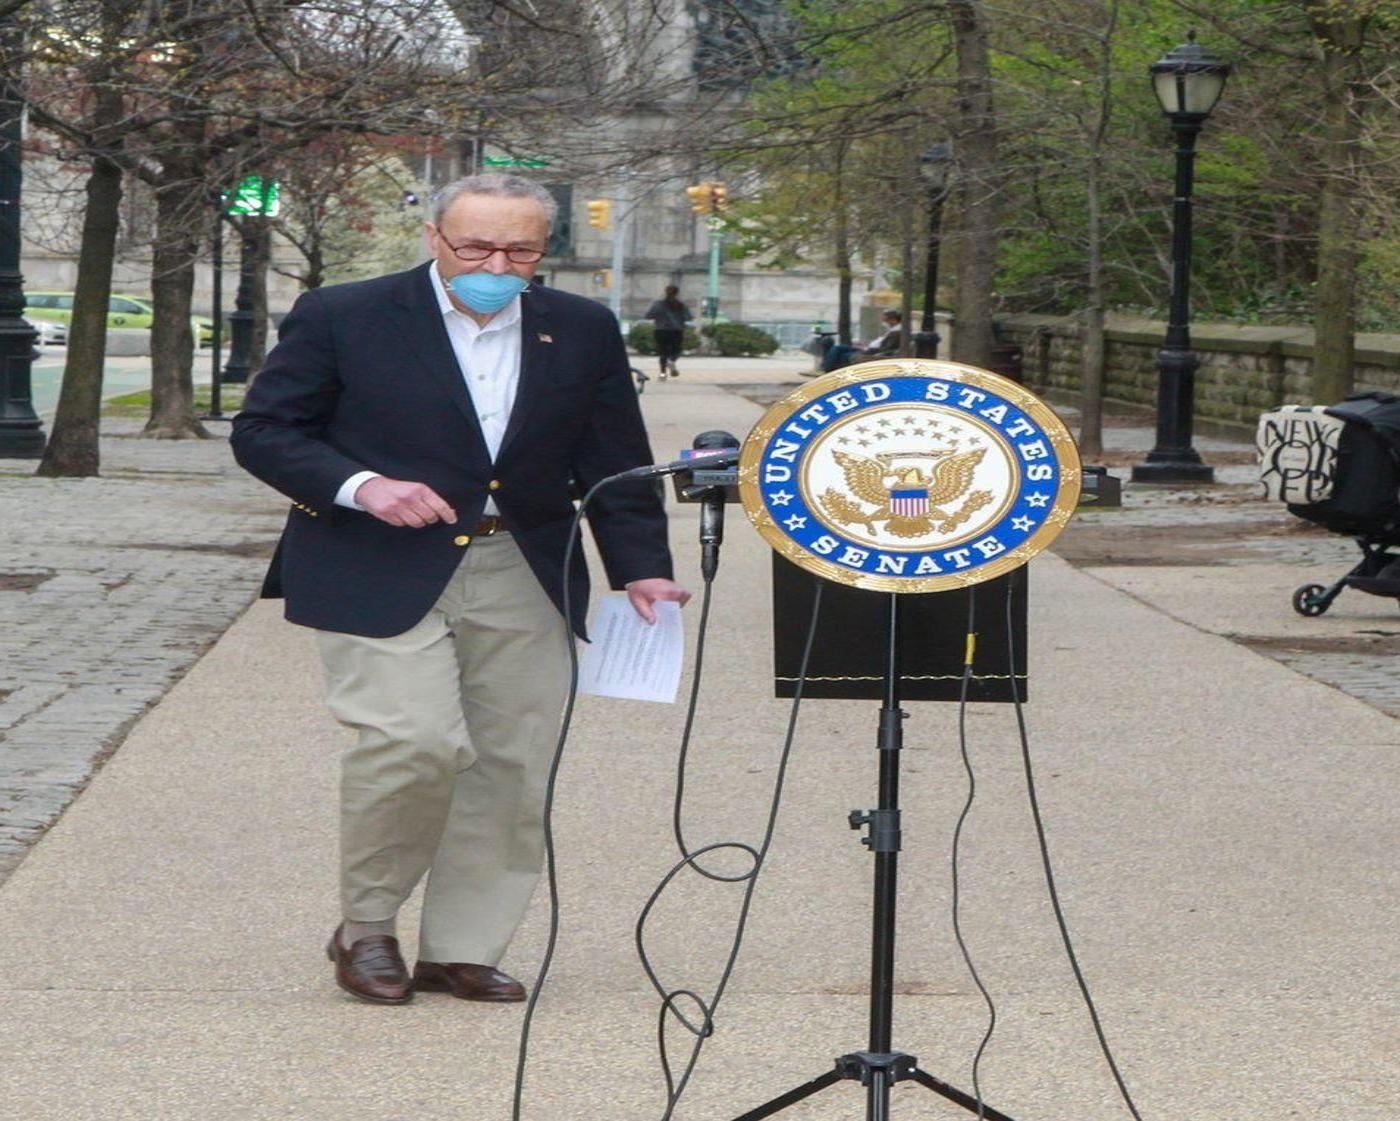mask_weared_incorrect: (419, 172, 560, 319)
